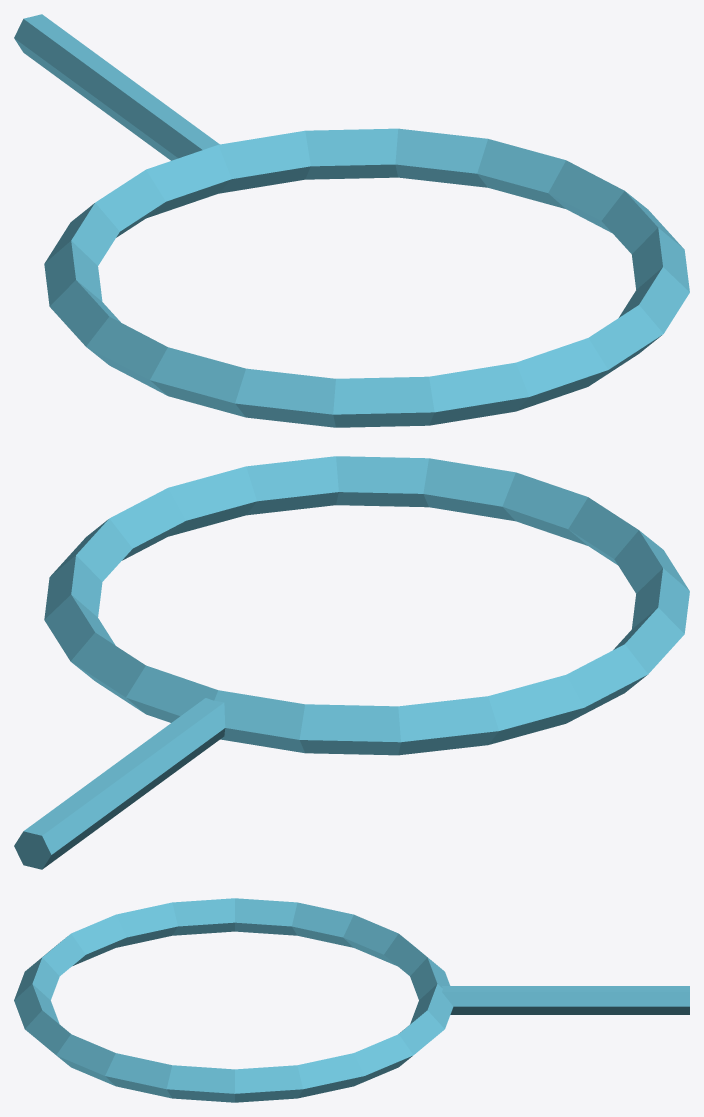
Rendered from blade-ring.glb.
3 views of the same model, one above another, from view 1: azimuth 30°, elevation 25°; view 2: azimuth 150°, elevation 25°; view 3: azimuth 270°, elevation 25° (orthographic). The views are drawn at different scales.
Visible parts, largest first — view 1: m; view 2: m; view 3: m.
Part boxes in pixels (x1,y1,x2,y2): m: (14,14,689,427); m: (14,456,689,869); m: (14,898,689,1102).
Size of the model in its own units: 0.0784 by 0.00653 by 0.12.
